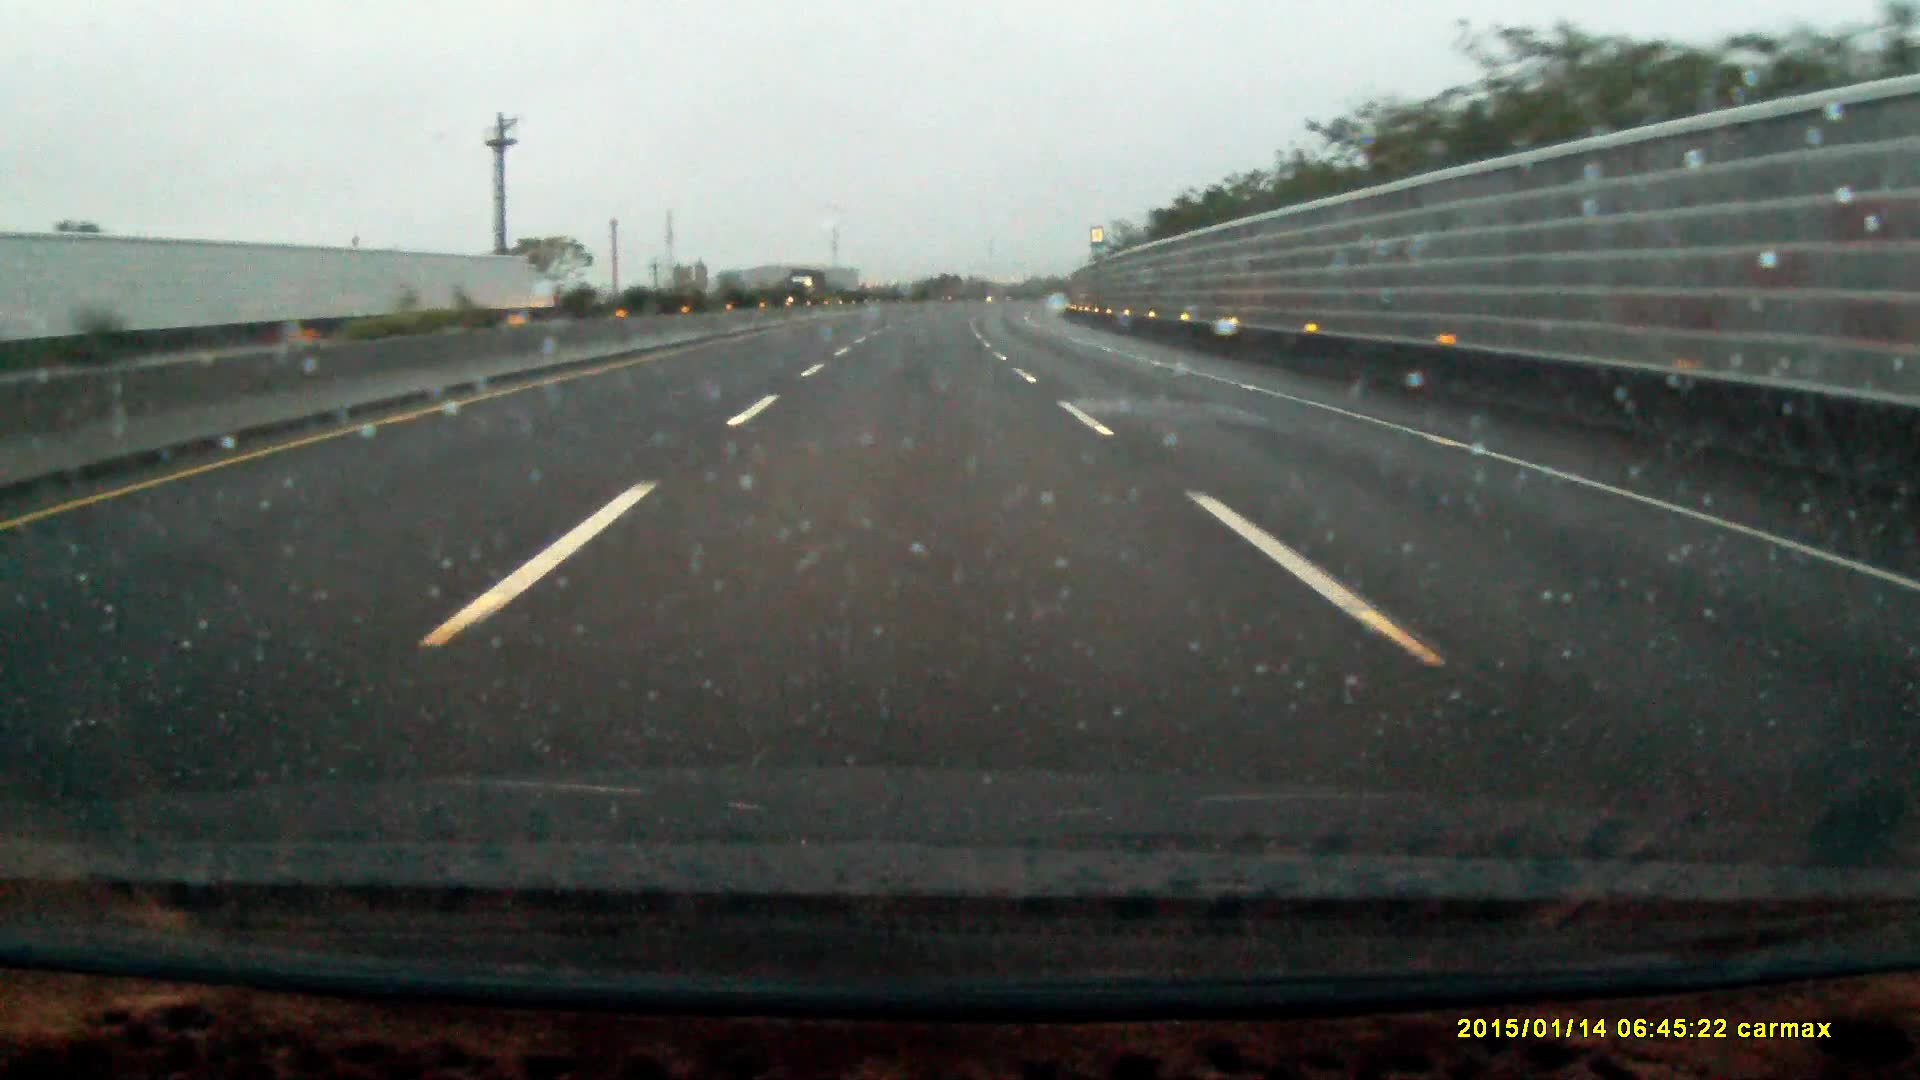vehicle: (789, 268, 828, 303)
